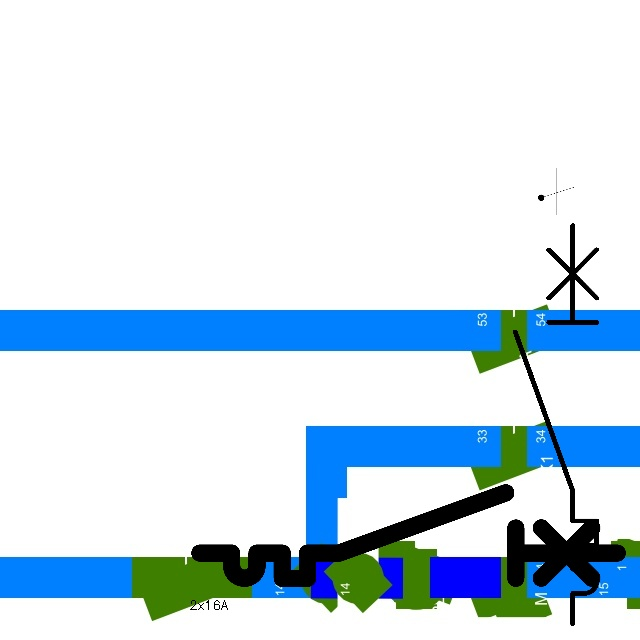interruptor_termomagnetico: (189, 482, 628, 589), (505, 215, 607, 634)
